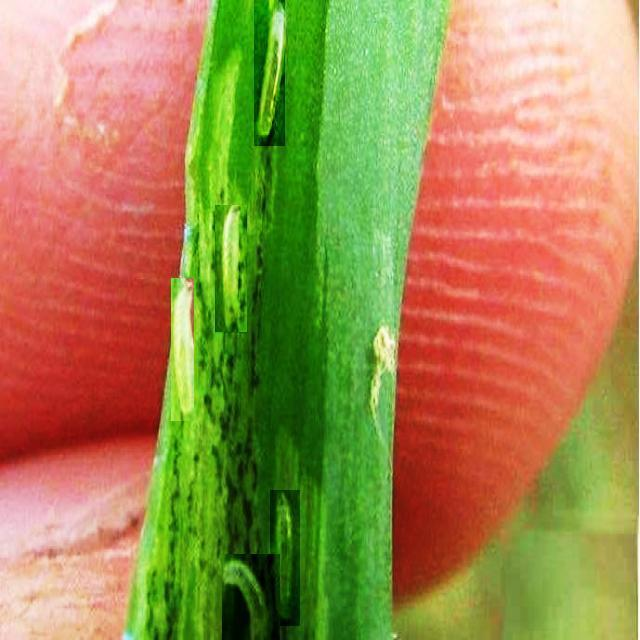whorl-maggot: (222, 554, 280, 640), (254, 0, 285, 146), (215, 206, 247, 334), (270, 490, 300, 626), (171, 278, 194, 421)
